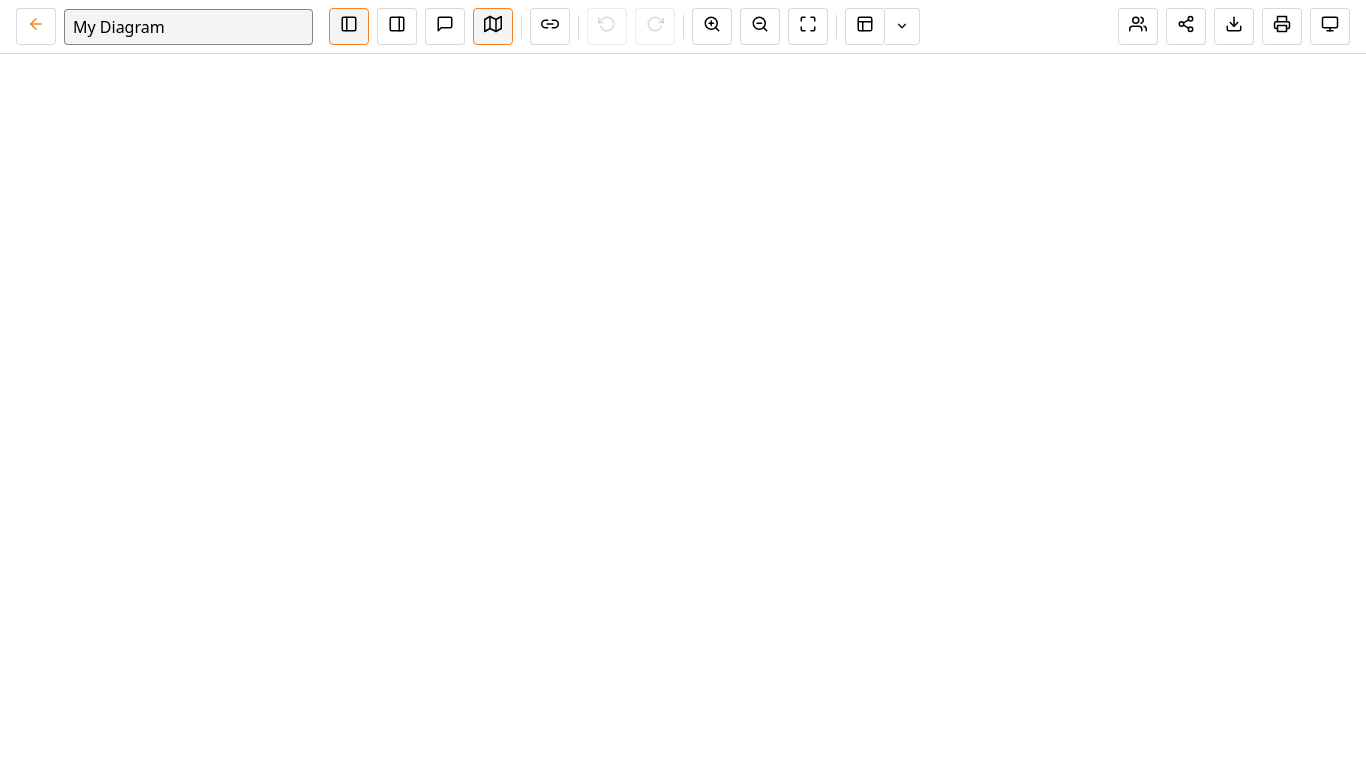
connecting nodes › opens the dialog once there are
Click the button named "Connect nodes".
click(550, 26)  # box [530, 8, 570, 45]
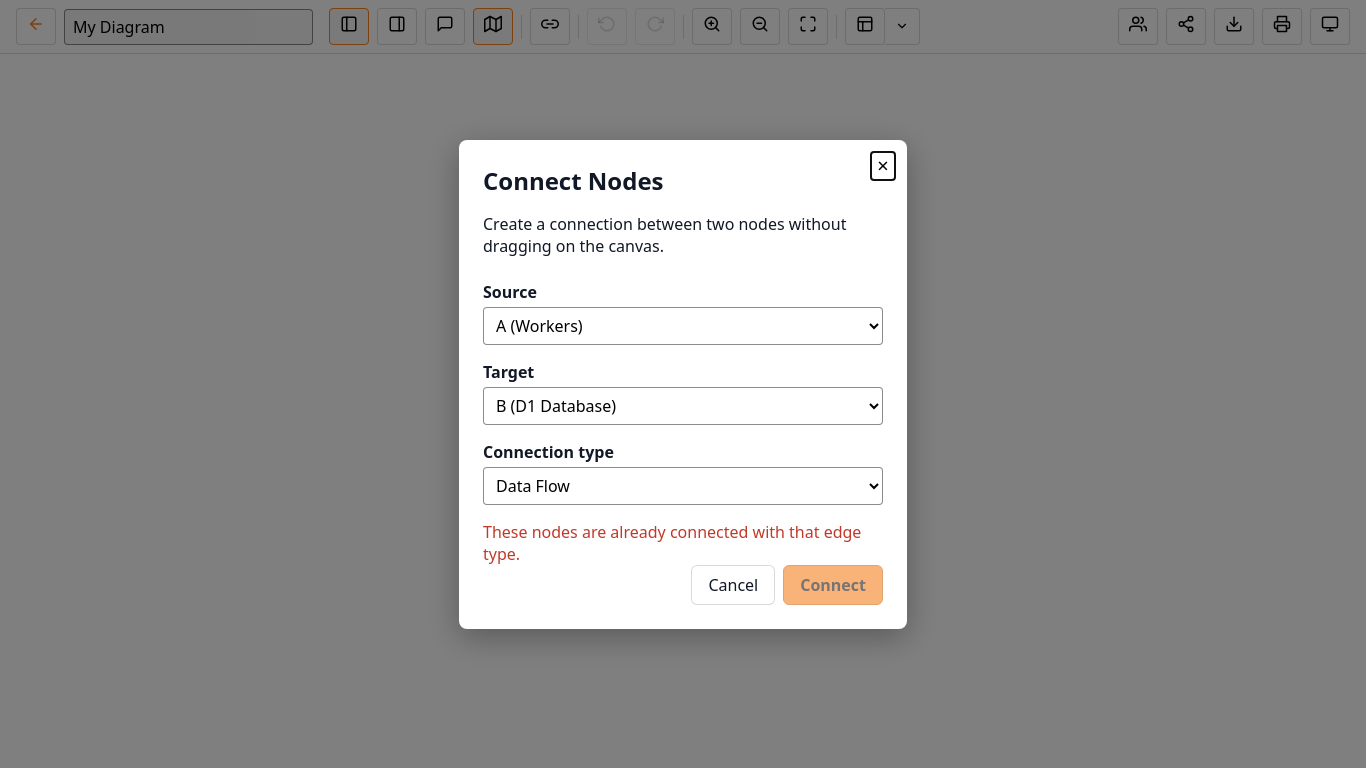
Expected: the dialog "Connect Nodes" is shown, [459, 140, 907, 628]
